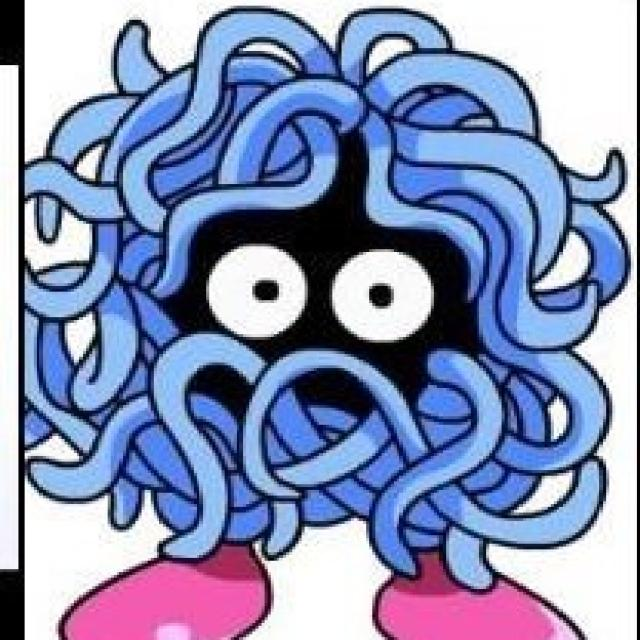Tangela: (26, 0, 637, 640)
